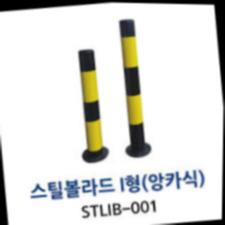Animal: (105, 18, 159, 154), (65, 45, 114, 167)
